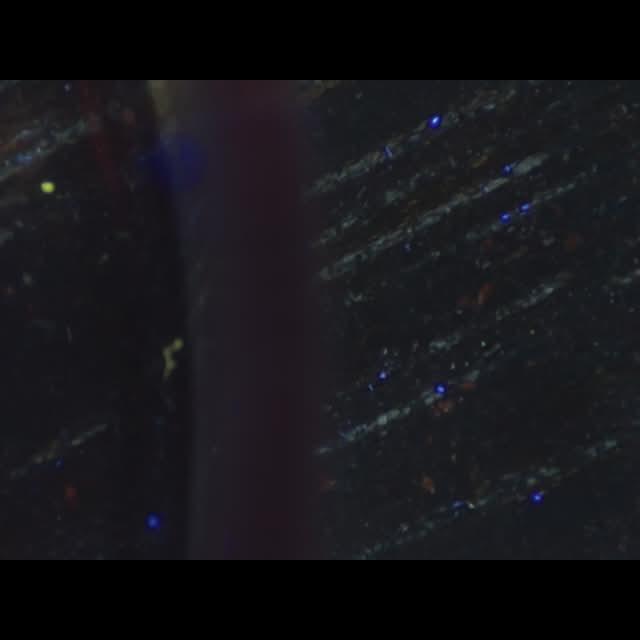Fibre: (162, 339, 182, 375)
microbeads: (40, 180, 54, 194)
